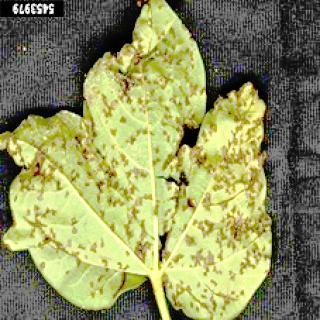blight: (7, 26, 271, 320)
